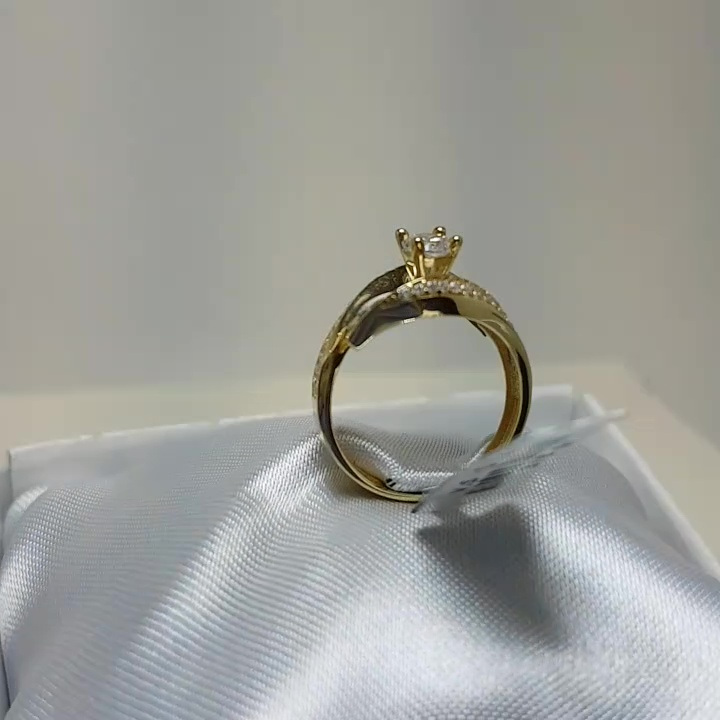Ring 6: (283, 203, 544, 522)
